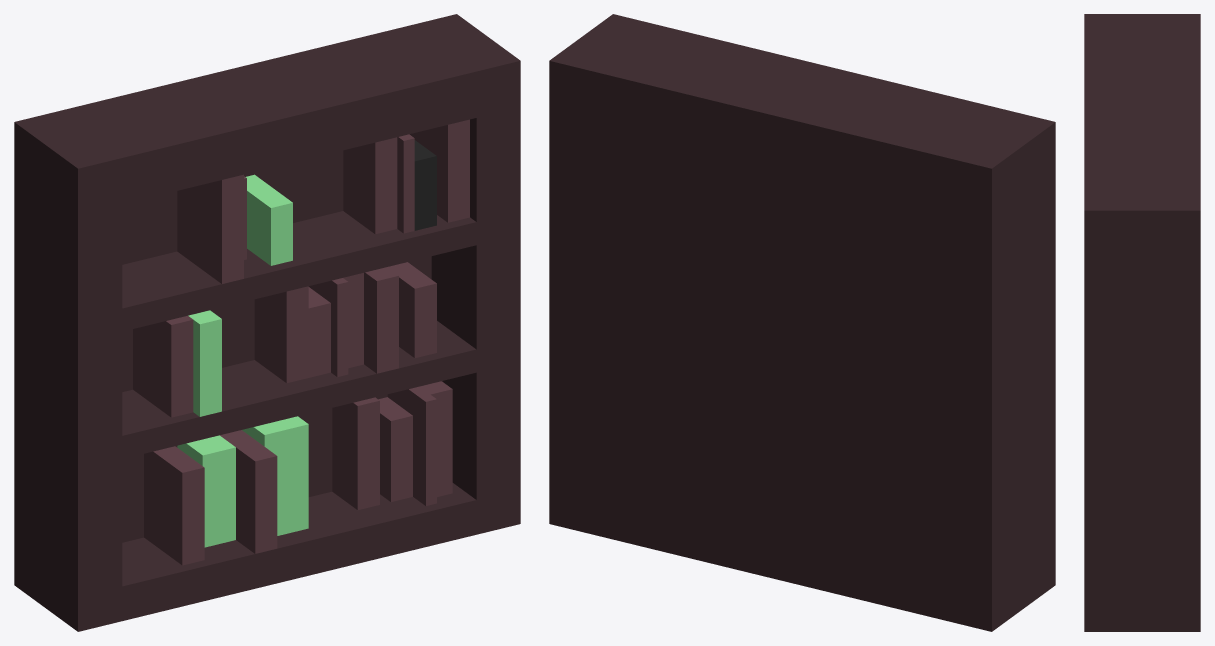
File: bookshelf.obj
3 views of the same model, side by side, from view 1: azimuth 30°, elevation 25°; view 2: azimuth 150°, elevation 25°; view 3: azimuth 270°, elevation 25° (orthographic). The views are drawn at different scales.
Visible parts, largest first — view 1: bookshelf; view 2: bookshelf; view 3: bookshelf.
Boxes of the visible parts, left/top/right/bottom form: bookshelf: left=14, top=14, right=520, bottom=631; bookshelf: left=549, top=14, right=1055, bottom=631; bookshelf: left=1084, top=14, right=1200, bottom=631.
Size of the model in its own units: 40 by 40 by 10.
